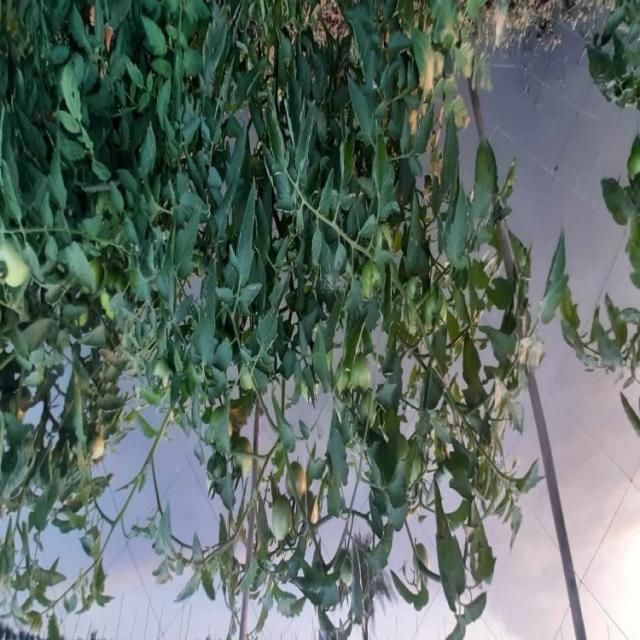tomato: (1, 228, 40, 293), (353, 346, 391, 412), (335, 363, 372, 409), (358, 263, 393, 300), (283, 463, 316, 497)
